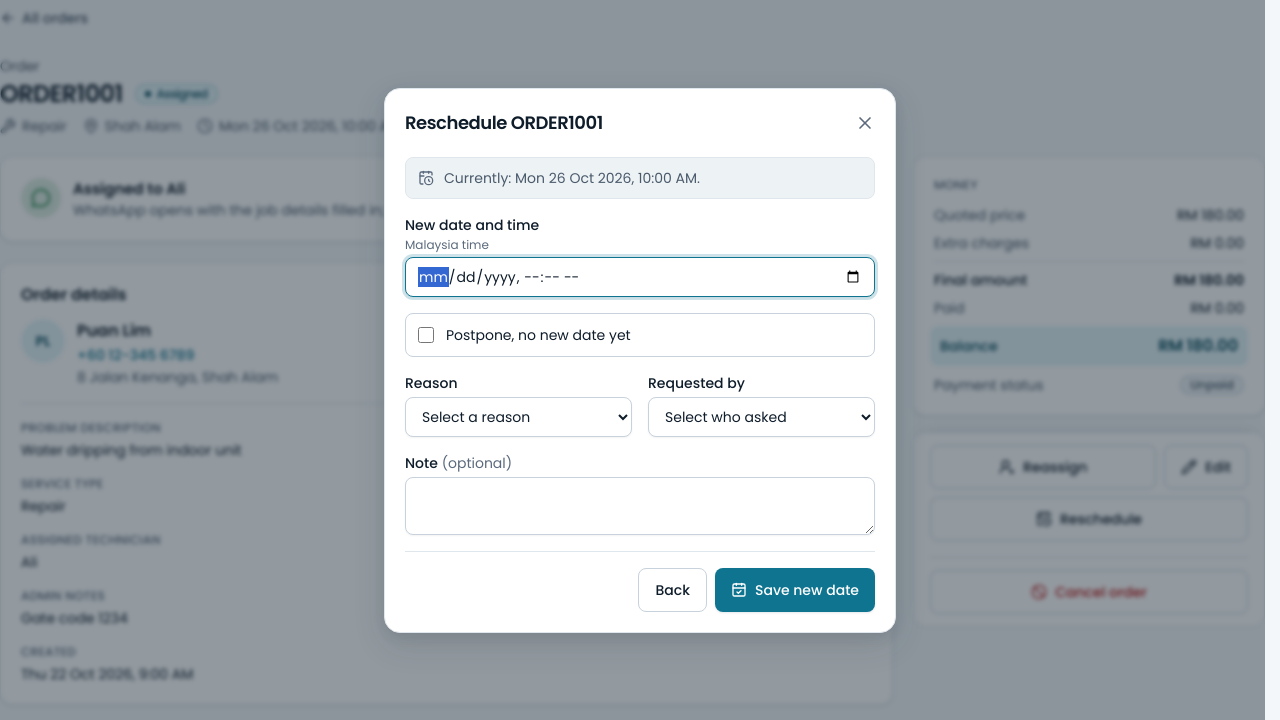
Test: Assign, reassign, cancel, reschedule (AC12) › reschedules with a reason, or postpones with no date
Click the button "Save new date".
click(795, 590)  # box x1=715 y1=568 x2=875 y2=612
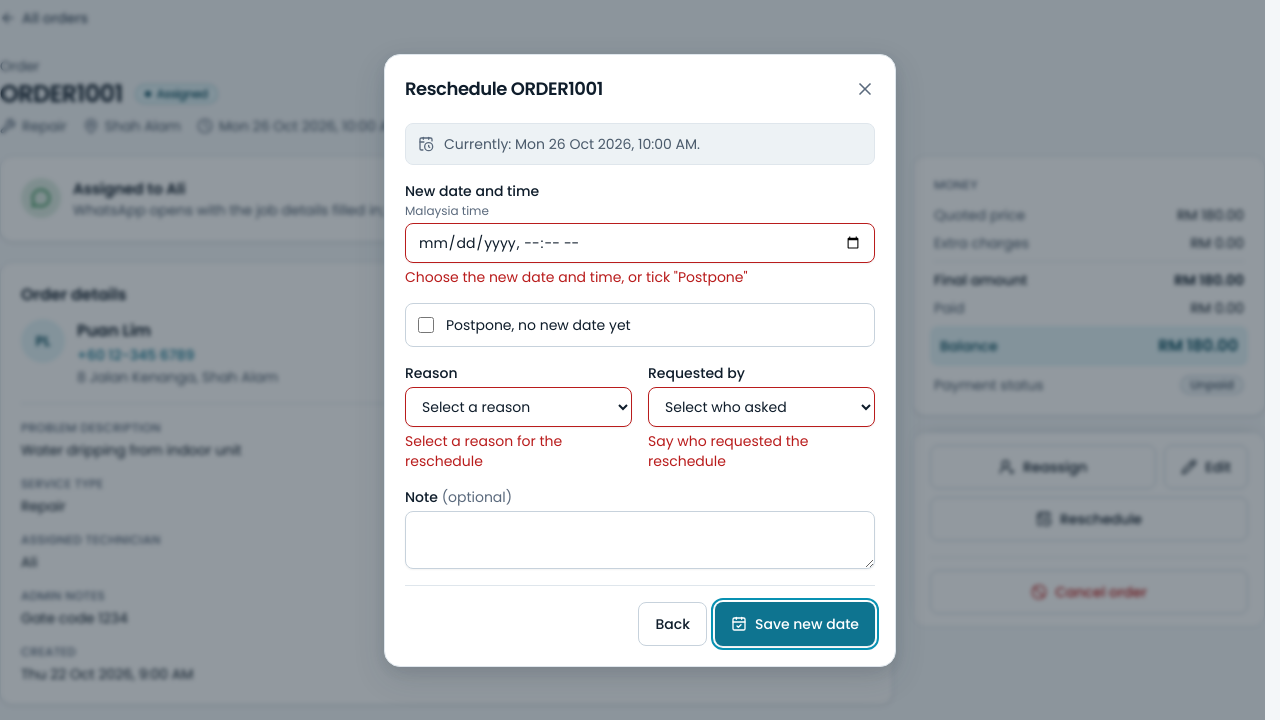
Check: the text "Select a reason for the reschedule" is shown, box x1=405 y1=430 x2=562 y2=470
Click the checkbox labelled "Postpone, no new date yet".
click(426, 324)  # box x1=418 y1=316 x2=434 y2=332
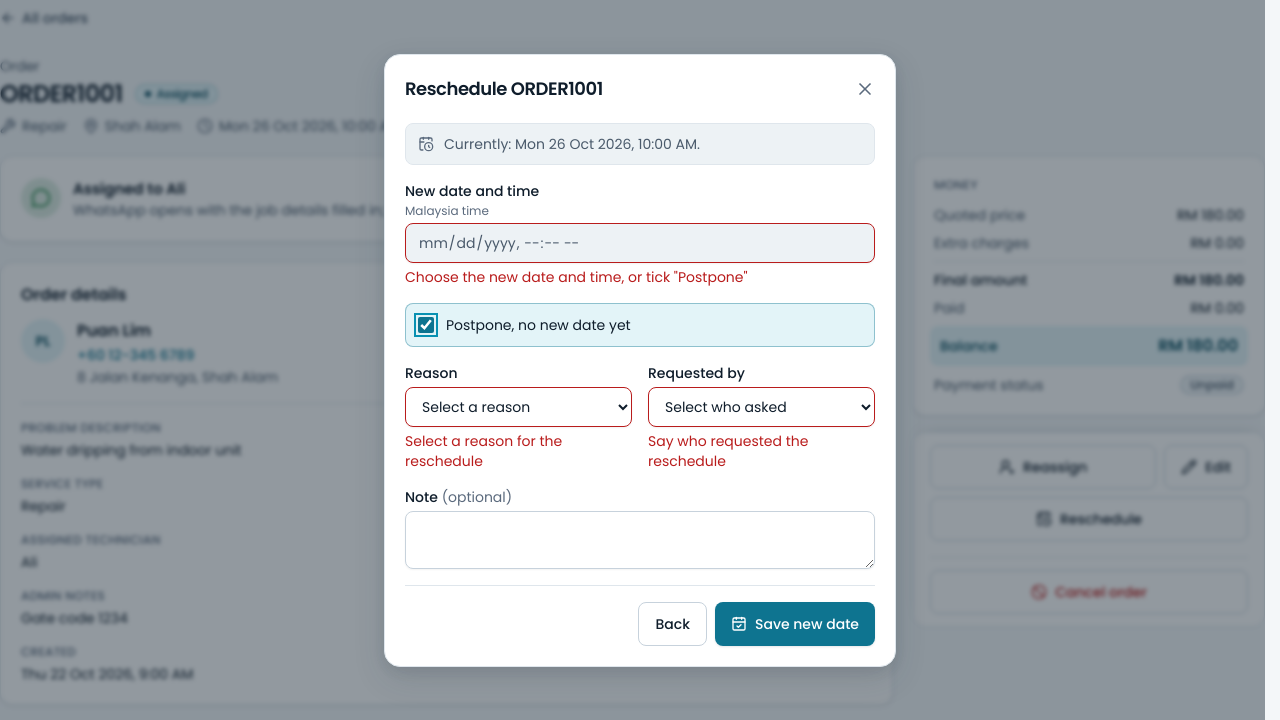
Select "Weather" in the dropdown labelled "Reason" at (518, 406), box x1=405 y1=386 x2=632 y2=426
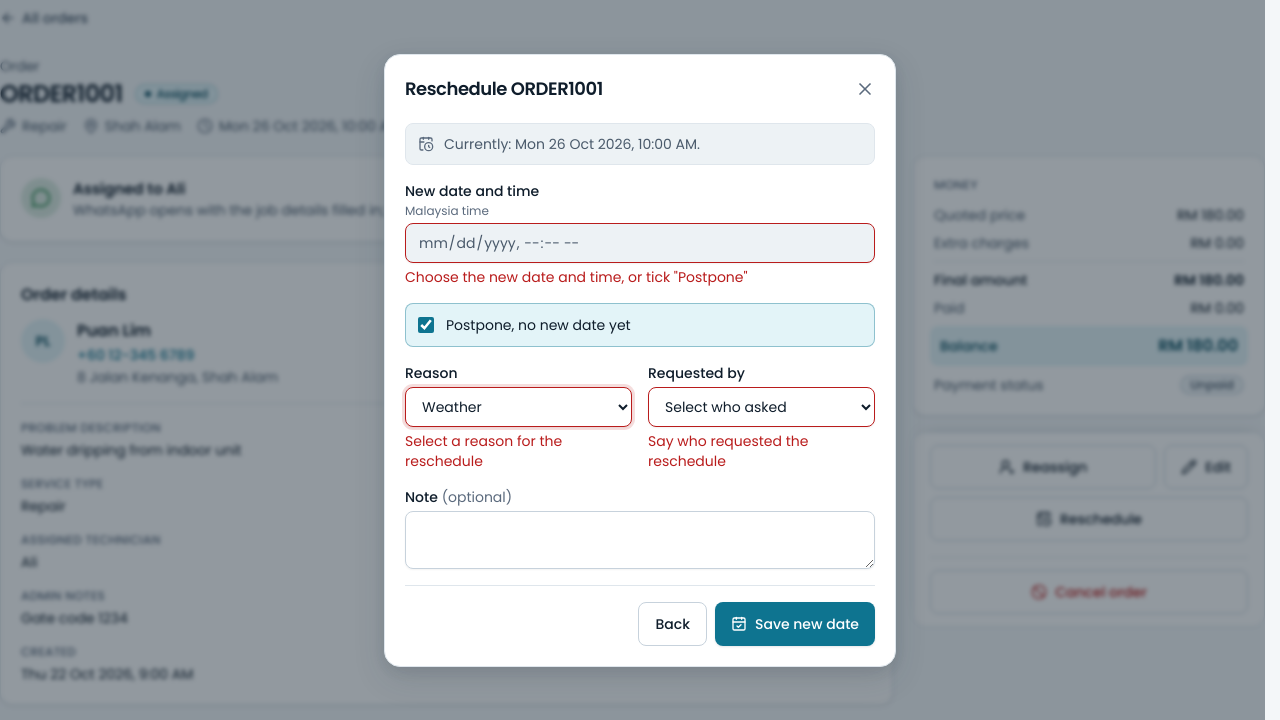
Select "Customer" in the dropdown labelled "Requested by" at (762, 406), box x1=648 y1=386 x2=875 y2=426
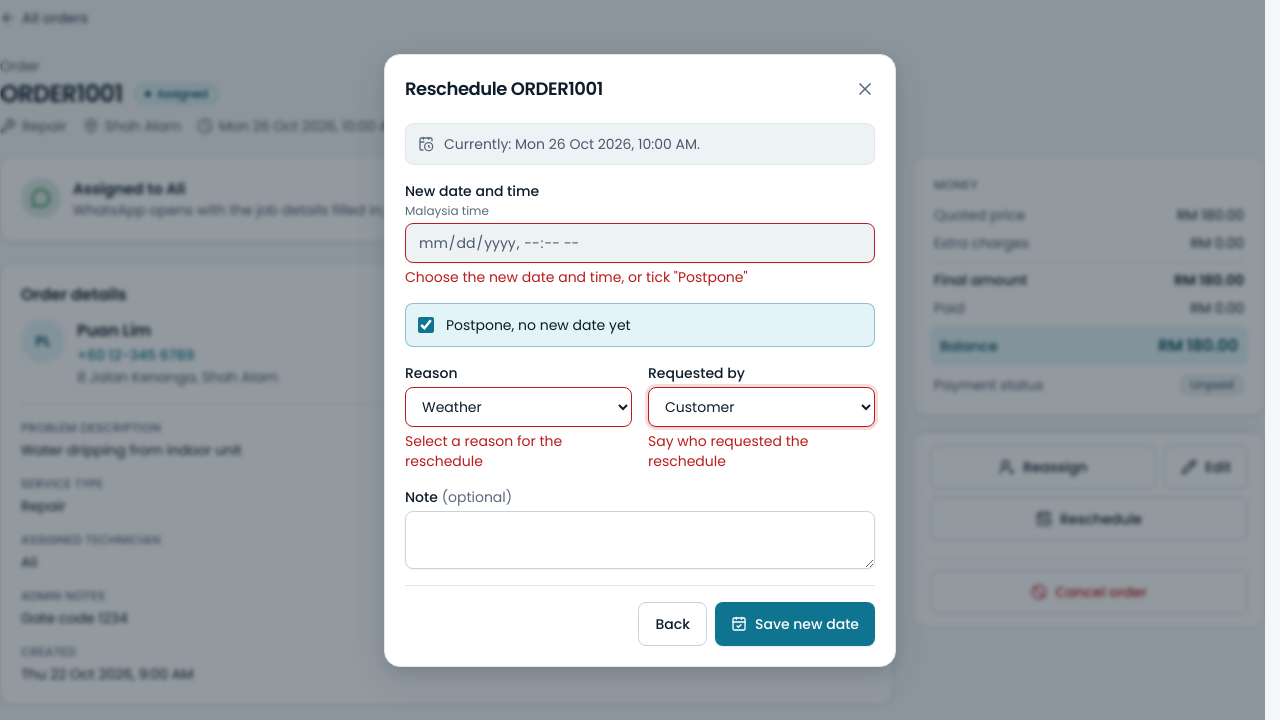
Click the button "Save new date".
click(795, 624)  # box x1=715 y1=602 x2=875 y2=646
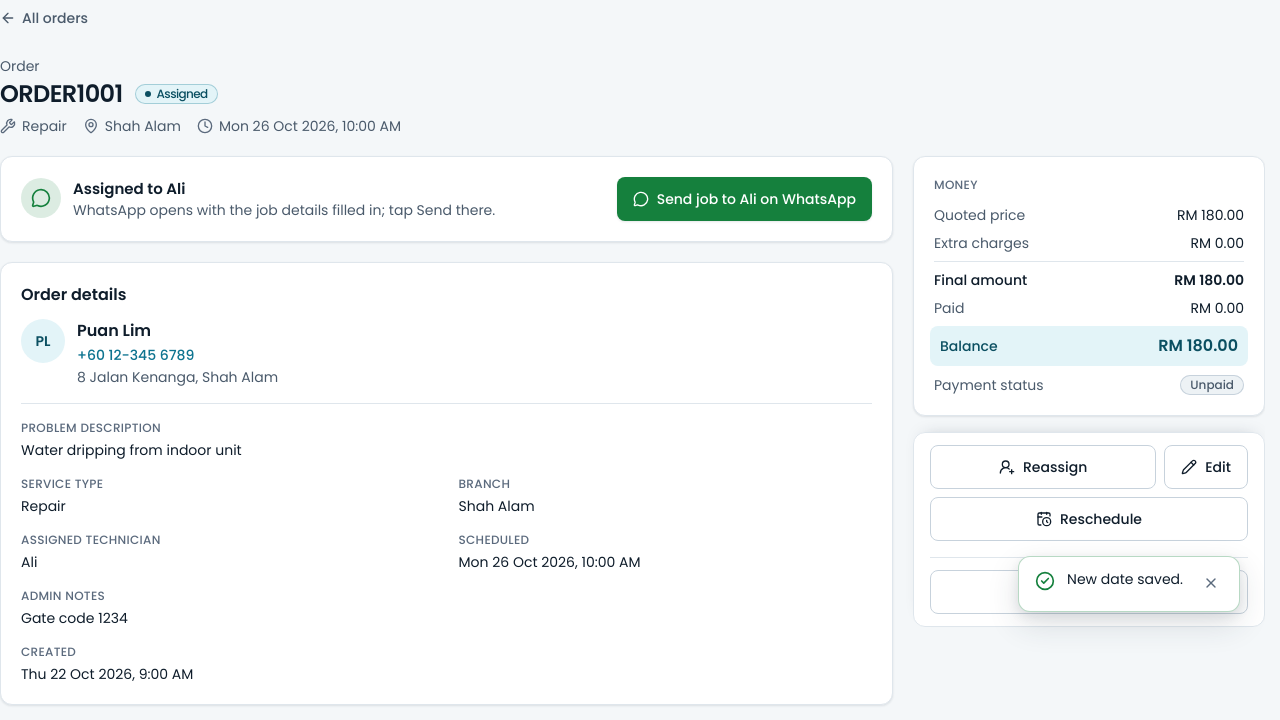
Check: the message reads "New date saved.", box x1=1067 y1=569 x2=1183 y2=589
